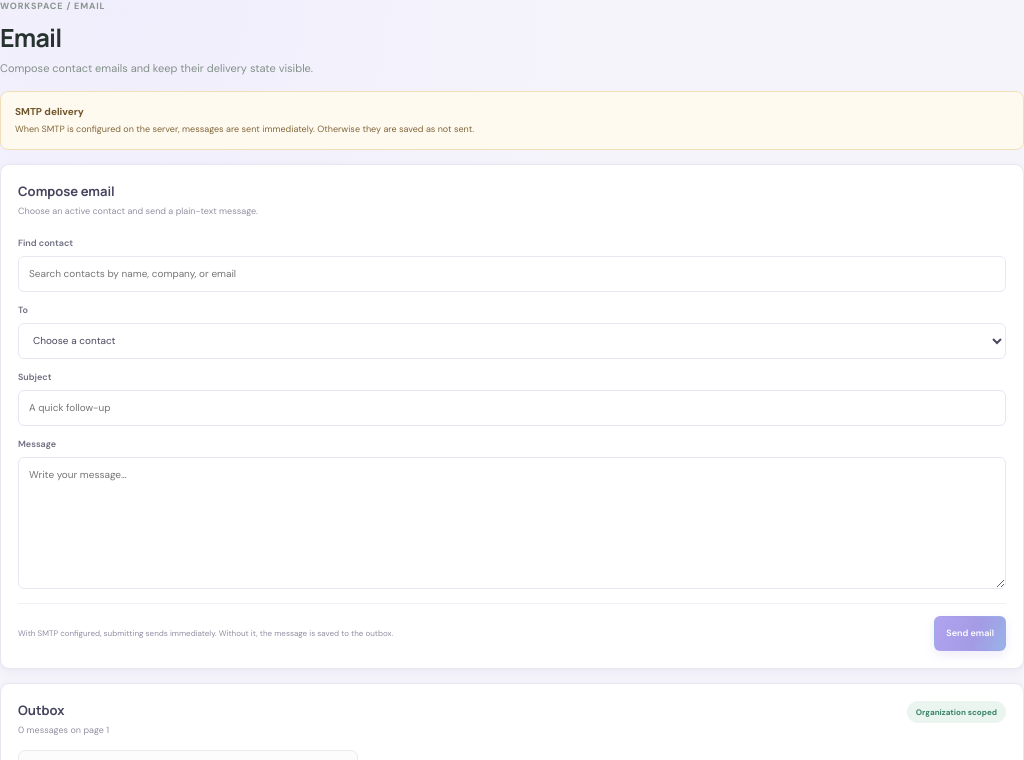
Test: EmailsManager › saves a contact email to the outbox without claiming delivery
Select "Olivia Rhye — olivia@example.com" in the dropdown labelled "To" at (512, 340), box x1=18 y1=322 x2=1006 y2=358
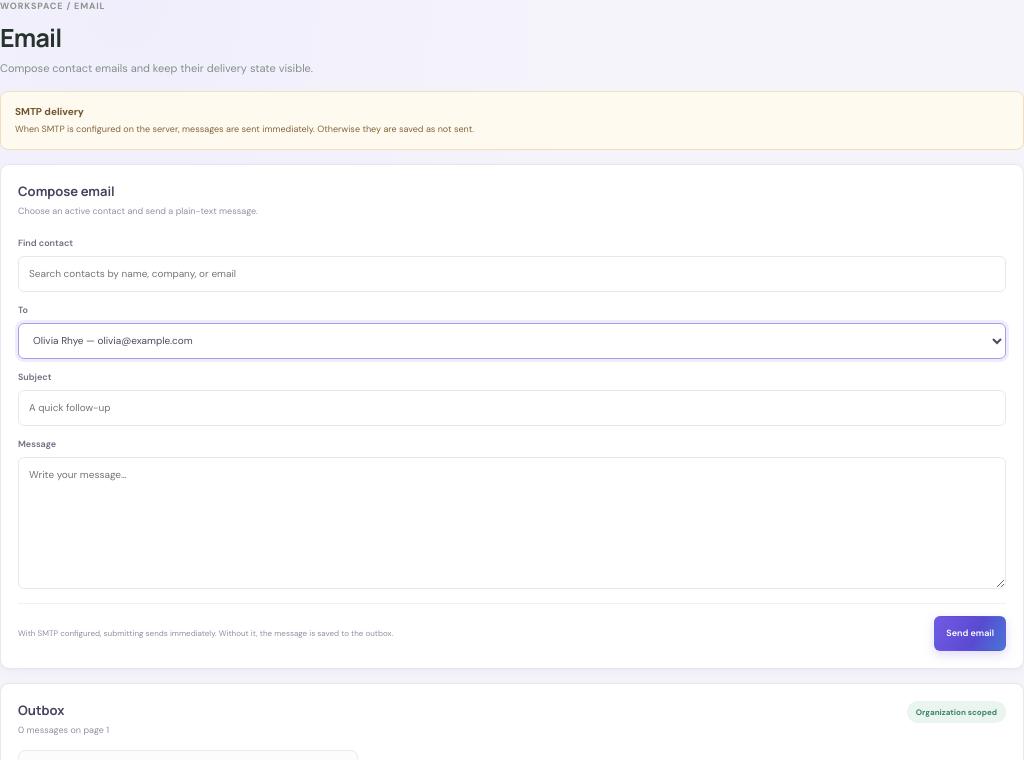
Type "Follow-up" into the field labelled "Subject" at (512, 408), box x1=18 y1=390 x2=1006 y2=426
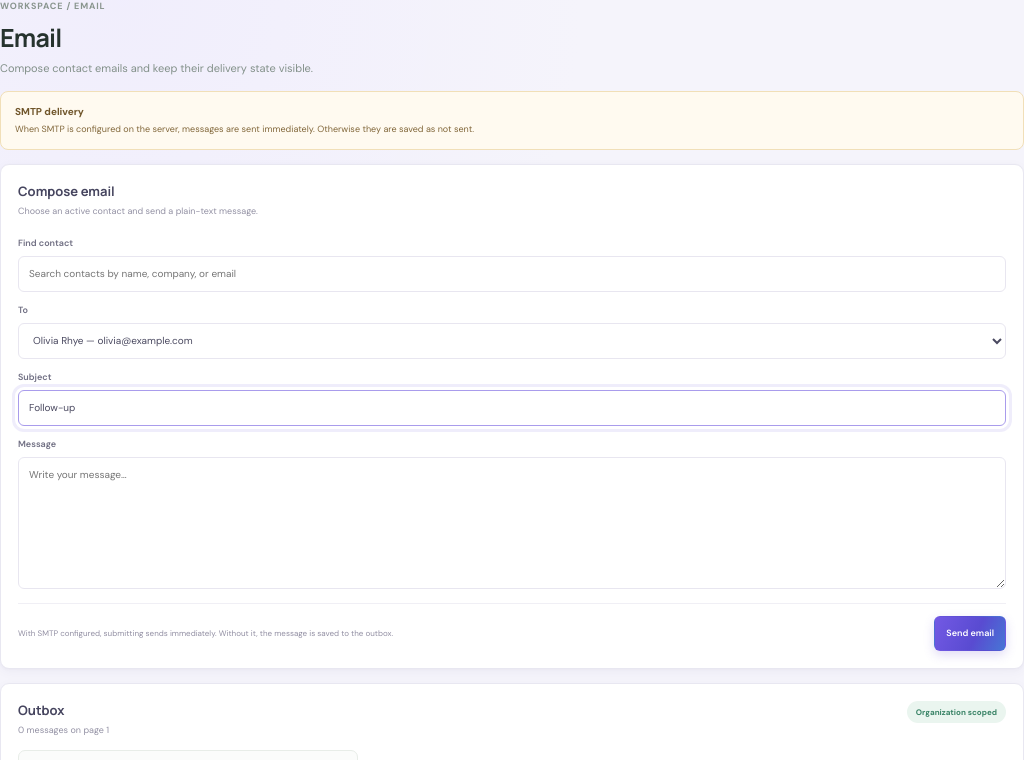
Type "Thanks for your time." into the text box labelled "Message" at (512, 522), box x1=18 y1=456 x2=1006 y2=588
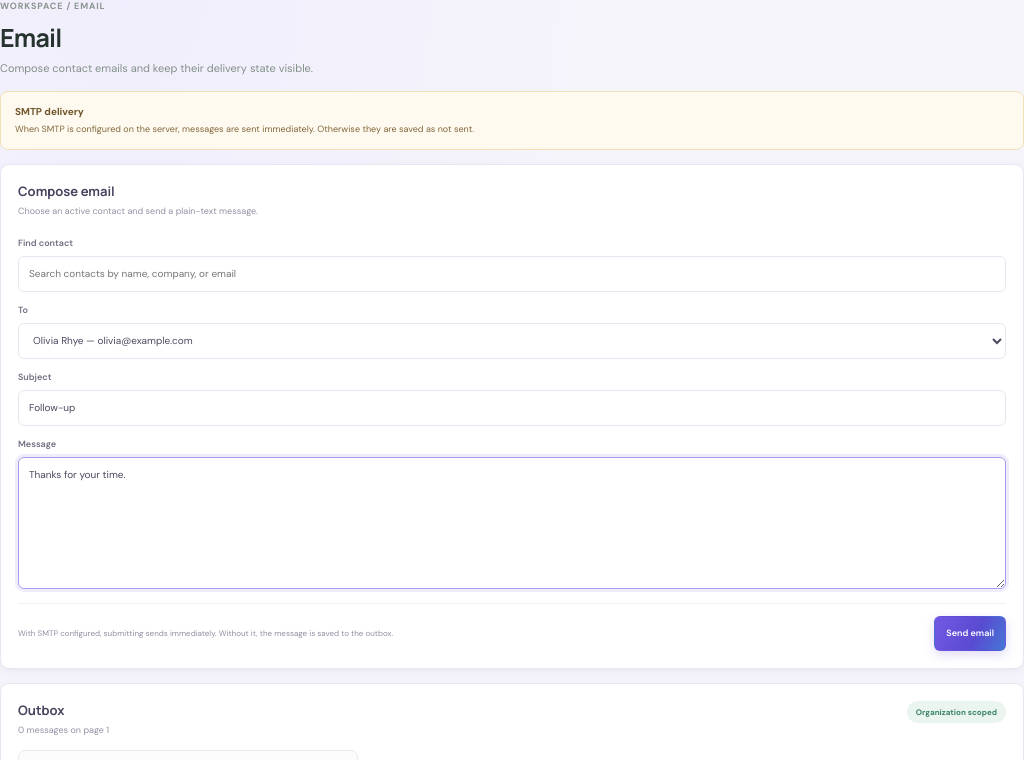
Click the button "Send email" at (970, 633), box x1=934 y1=616 x2=1006 y2=650
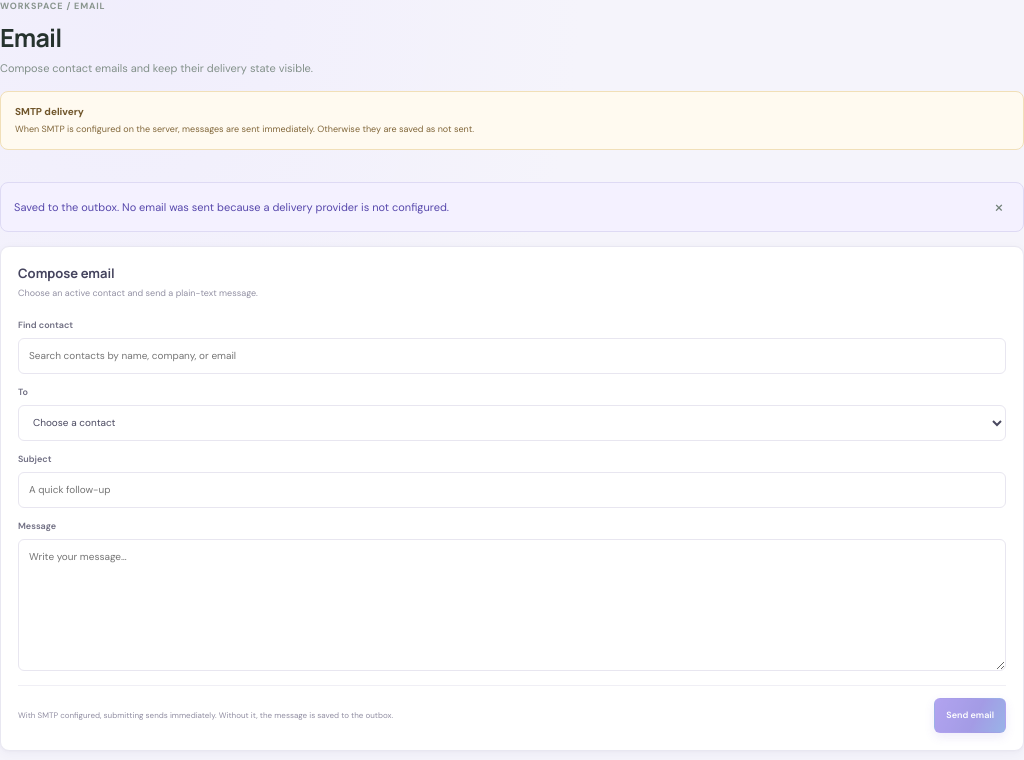
Expected: the message shows "No email was sent", x1=14 y1=200 x2=449 y2=214
